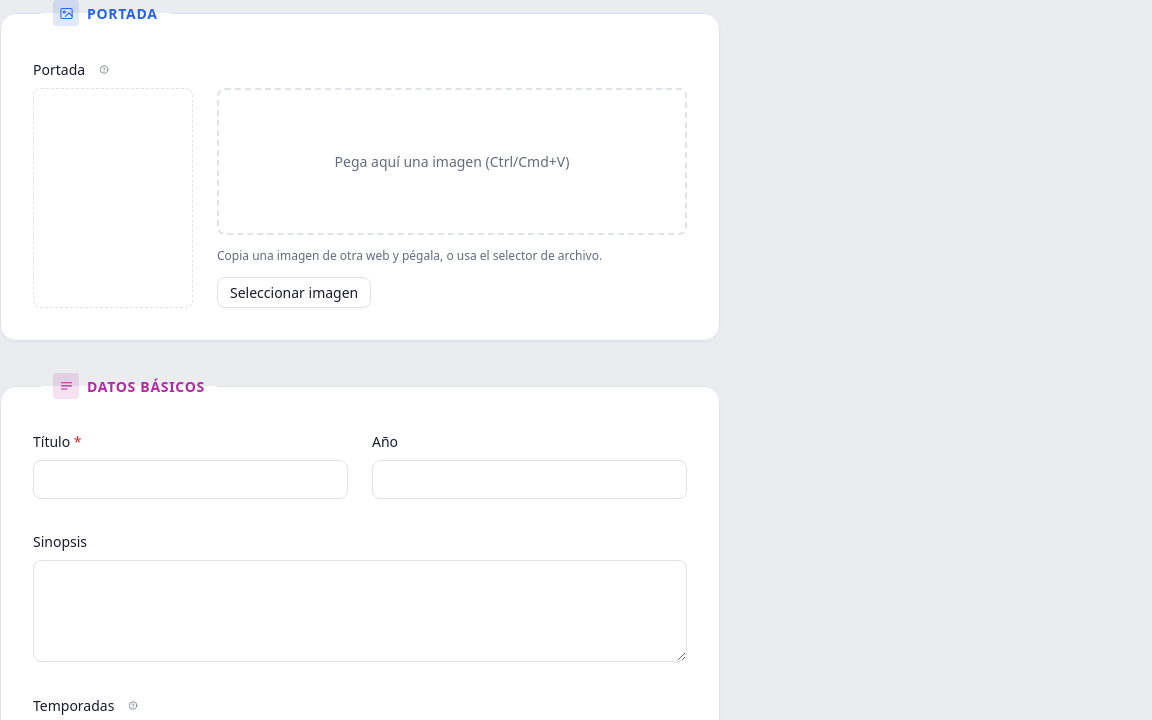
Test: SeriesForm › la ayuda de temporadas explica que es texto libre
Click the button named "ayuda sobre temporadas".
click(133, 705)  # box [122,694,144,716]
(page scrolled)
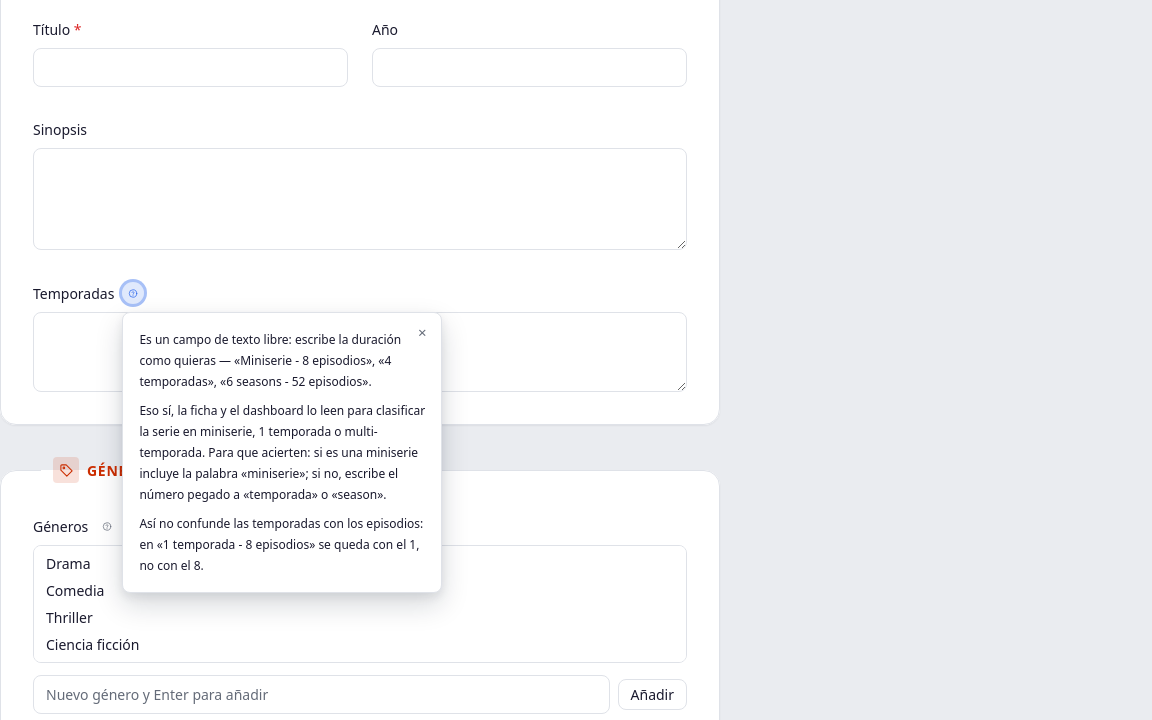
Result: the text "campo de texto libre" is shown at [139,331,401,390]
